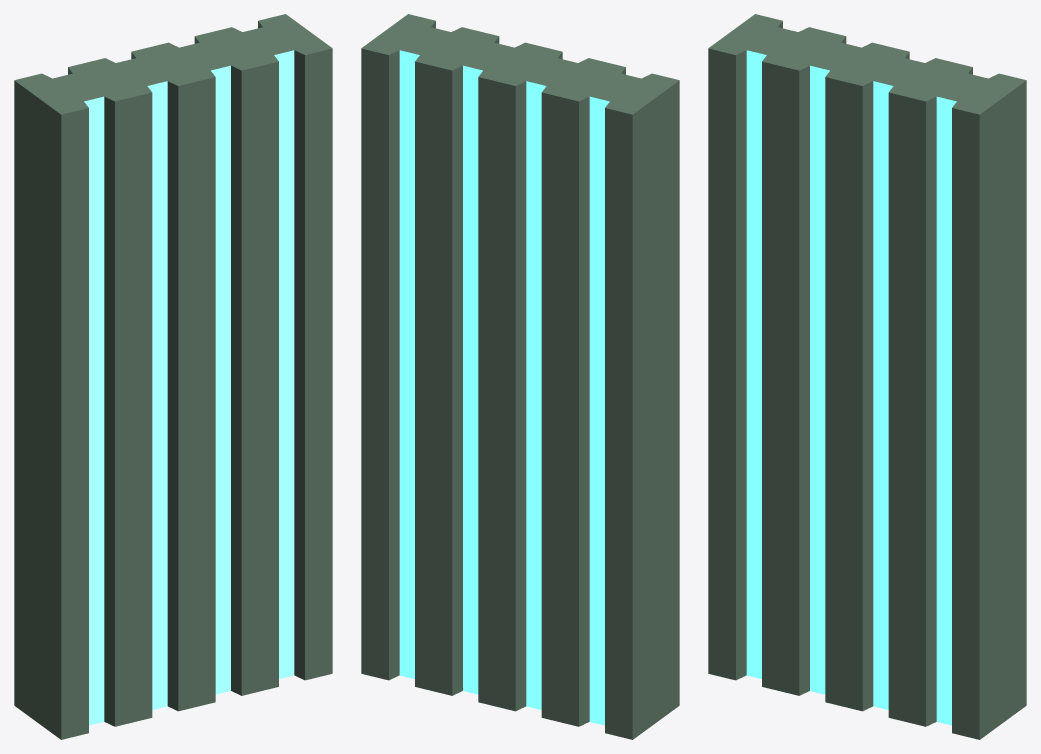
Rendered from W2_Wall_Ridge1Double.fbx.
3 renders of one model, left to right at view 1: azimuth 30°, elevation 25°; view 2: azimuth 150°, elevation 25°; view 3: azimuth 330°, elevation 25°, orthographic.
Visible parts, largest first — view 1: W2_Wall_Ridge1Double.001; view 2: W2_Wall_Ridge1Double.001; view 3: W2_Wall_Ridge1Double.001.
Part boxes in pixels (bbox=[...]): W2_Wall_Ridge1Double.001: bbox=[14, 14, 332, 739]; W2_Wall_Ridge1Double.001: bbox=[361, 14, 679, 739]; W2_Wall_Ridge1Double.001: bbox=[708, 14, 1026, 739].
Bounding box in the file's own units: 1 × 2.2 × 0.3.
